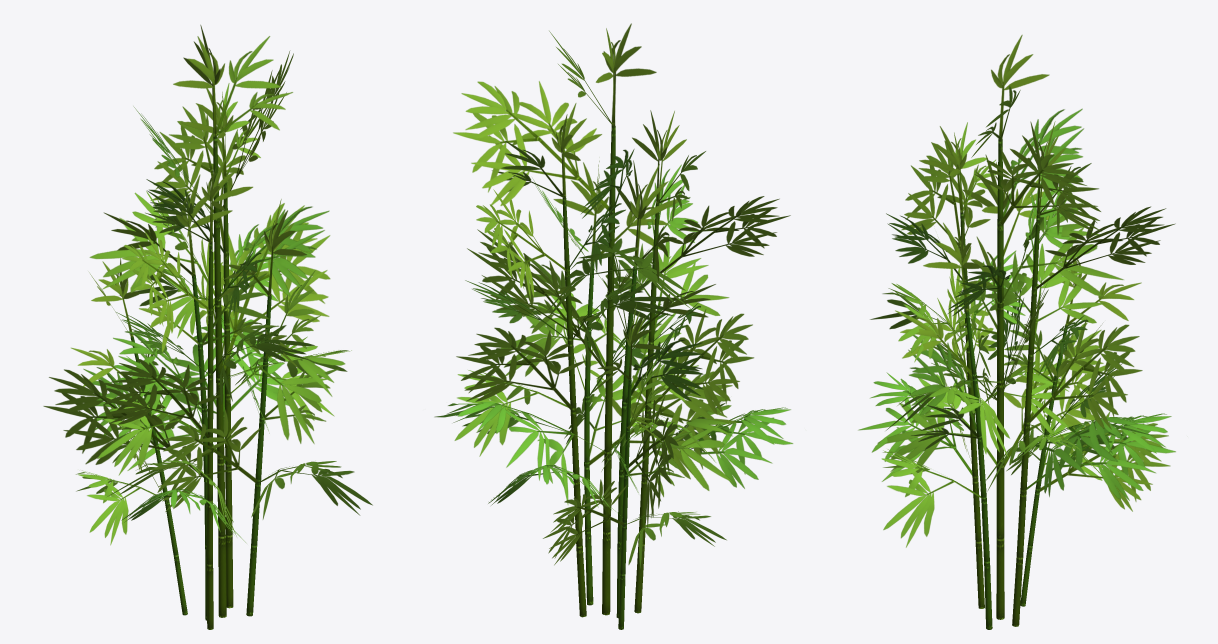
Rendered from bamboo_bush.glb.
3 renders of one model, left to right at view 1: azimuth 30°, elevation 25°; view 2: azimuth 150°, elevation 25°; view 3: azimuth 270°, elevation 25°, orthographic. The views are drawn at different scales.
Parts seen in each view (by area): view 1: Object_2; view 2: Object_2; view 3: Object_2.
Boxes of the visible parts, left/top/right/bottom form: Object_2: left=43, top=25, right=372, bottom=629; Object_2: left=434, top=23, right=793, bottom=629; Object_2: left=858, top=35, right=1175, bottom=629.
Bounding box in the file's own units: 121 × 219 × 122.
1 material, 1 textured.
